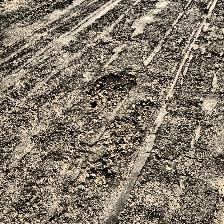pothole: (82, 100, 156, 188), (86, 67, 138, 111)
